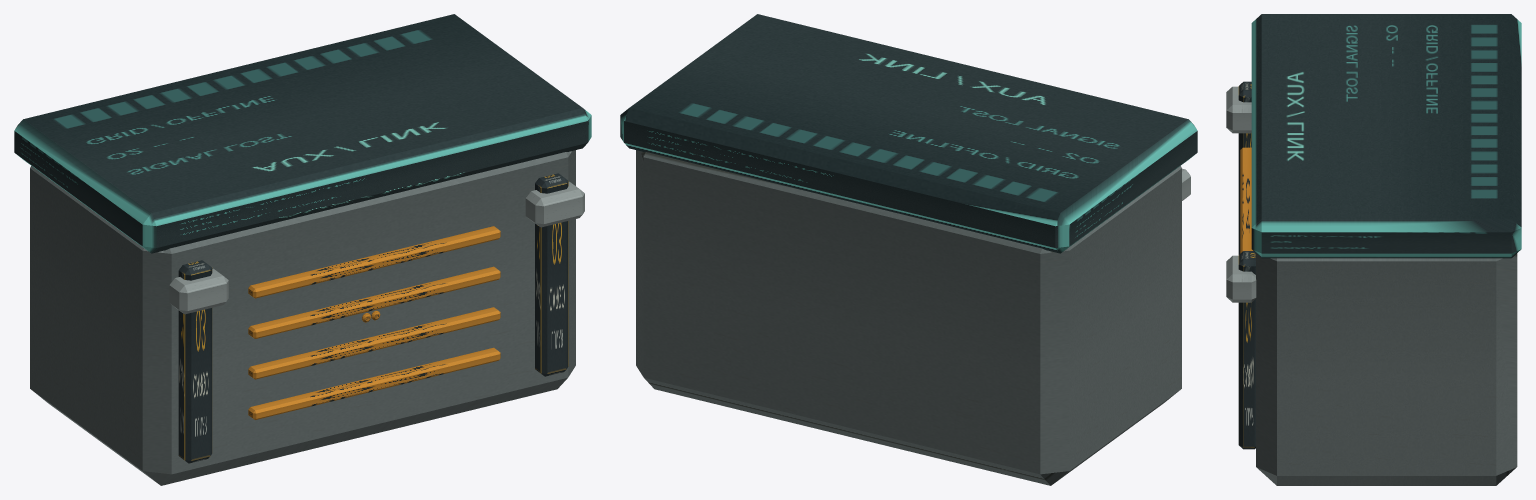
The model's file is cargo_container_LOD0.obj.
3 renders of one model, left to right at view 1: azimuth 30°, elevation 25°; view 2: azimuth 150°, elevation 25°; view 3: azimuth 270°, elevation 25°, orthographic. The views are drawn at different scales.
Parts seen in each view (by area): view 1: L02_cargo_container_LOD0; view 2: L02_cargo_container_LOD0; view 3: L02_cargo_container_LOD0.
Boxes of the visible parts, x1,y1,x2,y2 form: L02_cargo_container_LOD0: (14,14,591,485); L02_cargo_container_LOD0: (620,14,1197,485); L02_cargo_container_LOD0: (1226,14,1521,485).
Bounding box in the file's own units: 2.9 × 1.75 × 1.69.
Materials: 1 (1 with a texture image).
